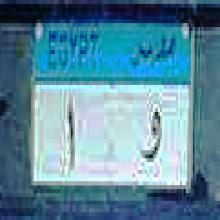1: (66, 98, 77, 168)
waw: (142, 102, 164, 165)
